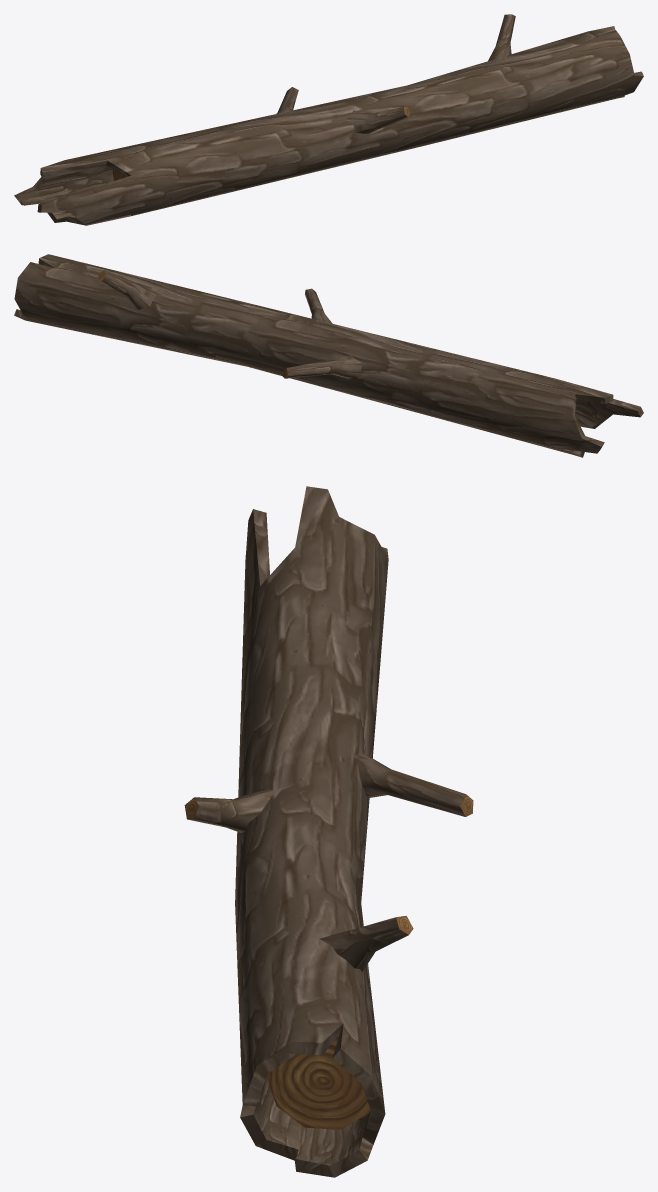
The model's file is Tree_Fall4.fbx.
3 renders of one model, top to bottom at view 1: azimuth 30°, elevation 25°; view 2: azimuth 150°, elevation 25°; view 3: azimuth 270°, elevation 25°, orthographic. The views are drawn at different scales.
Visible parts, largest first — view 1: polySurface496; view 2: polySurface496; view 3: polySurface496.
Part boxes in pixels (x1,y1,x2,y2): polySurface496: (14, 14, 643, 225); polySurface496: (14, 254, 643, 457); polySurface496: (184, 486, 473, 1177).
Bounding box in the file's own units: 5.73 × 0.7752 × 1.19.
1 material, 1 textured.
